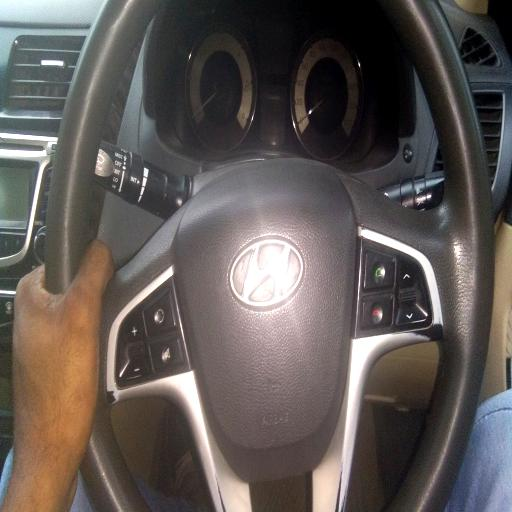tachometer: (186, 21, 258, 151)
